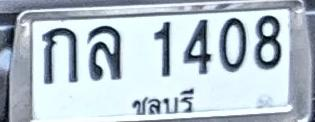0: (219, 17, 246, 72)
1: (153, 21, 171, 77)
4: (182, 18, 212, 74)
8: (254, 14, 281, 70)
A01: (41, 27, 78, 84)
A36: (87, 24, 122, 80)
CBI: (129, 86, 201, 119)
